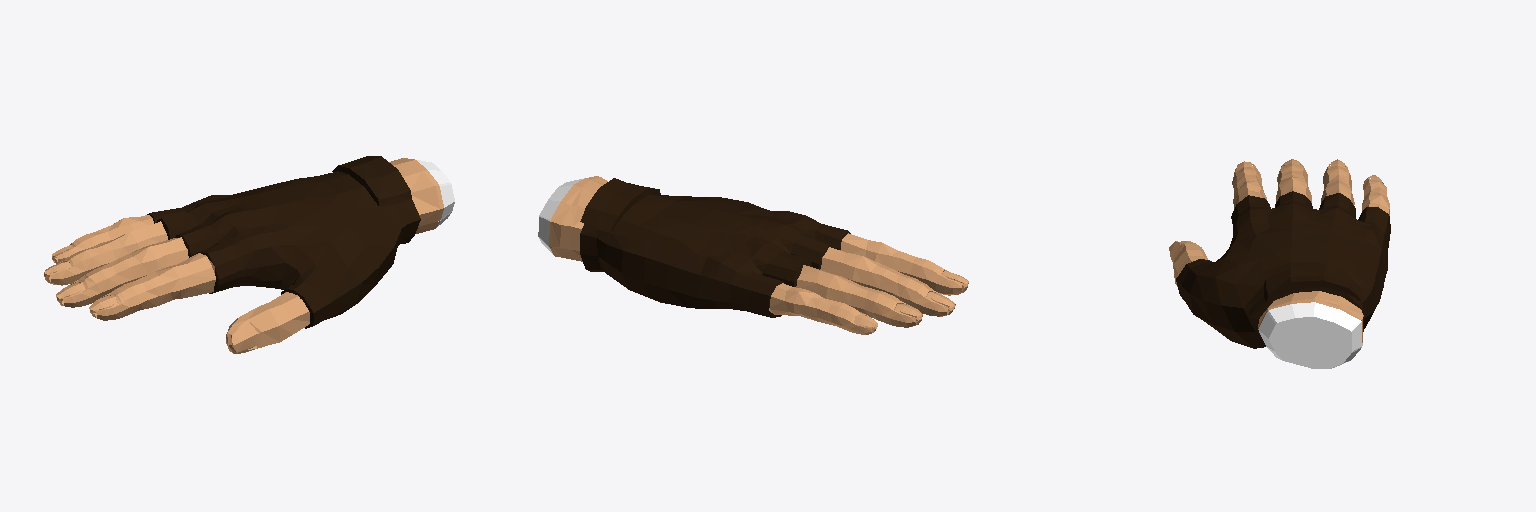
The model's file is lefthand.obj.
The picture shows the model from 3 angles: view 1: azimuth 30°, elevation 25°; view 2: azimuth 150°, elevation 25°; view 3: azimuth 270°, elevation 25°; orthographic projection.
Parts seen in each view (by area): view 1: Mesh2 Model, Mesh3 Model, Mesh7 Model, Mesh8 Model, Mesh9 Model, Mesh1 Model, Mesh4 Model; view 2: Mesh2 Model, Mesh7 Model, Mesh9 Model, Mesh1 Model, Mesh4 Model, Mesh3 Model; view 3: Mesh2 Model, Mesh9 Model, Mesh7 Model, Mesh3 Model, Mesh1 Model, Mesh8 Model, Mesh4 Model.
Boxes of the visible parts, x1,y1,x2,y2 form: Mesh2 Model: [147, 156, 420, 328]; Mesh3 Model: [89, 253, 215, 320]; Mesh7 Model: [56, 237, 188, 307]; Mesh8 Model: [226, 292, 309, 353]; Mesh9 Model: [389, 158, 454, 233]; Mesh1 Model: [44, 221, 167, 285]; Mesh4 Model: [52, 215, 153, 263]; Mesh2 Model: [580, 178, 850, 317]; Mesh7 Model: [820, 247, 955, 316]; Mesh9 Model: [538, 176, 607, 261]; Mesh1 Model: [796, 265, 922, 327]; Mesh4 Model: [770, 283, 877, 334]; Mesh3 Model: [841, 233, 968, 295]; Mesh2 Model: [1176, 191, 1390, 348]; Mesh9 Model: [1258, 291, 1363, 368]; Mesh7 Model: [1276, 163, 1311, 202]; Mesh3 Model: [1232, 164, 1266, 208]; Mesh1 Model: [1321, 164, 1354, 204]; Mesh8 Model: [1169, 241, 1207, 286]; Mesh4 Model: [1362, 175, 1389, 215].
Size of the model in its own units: 9 by 2.12 by 4.48.